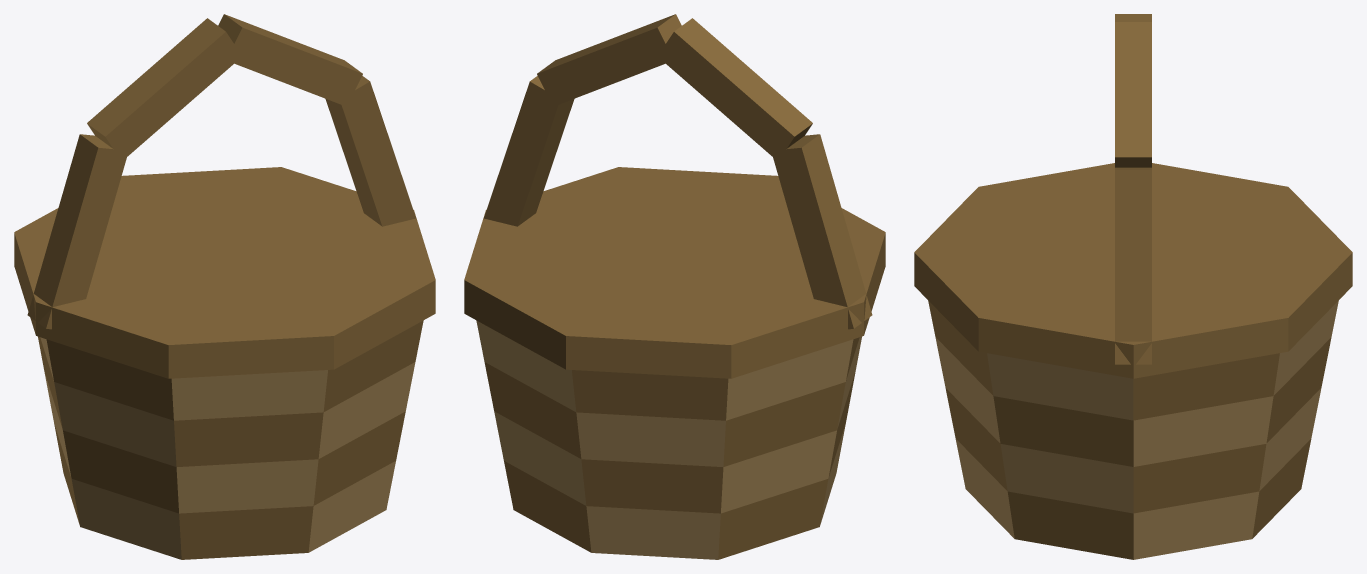
The model's file is fld_basket.glb.
The picture shows the model from 3 angles, left to right: view 1: azimuth 30°, elevation 25°; view 2: azimuth 150°, elevation 25°; view 3: azimuth 270°, elevation 25°; orthographic projection.
Parts seen in each view (by area): view 1: fld_basket; view 2: fld_basket; view 3: fld_basket.
Part boxes in pixels (left/top/right/bottom): fld_basket: left=14, top=14, right=435, bottom=559; fld_basket: left=464, top=14, right=885, bottom=559; fld_basket: left=914, top=14, right=1352, bottom=559.
Bounding box in the file's own units: 0.094 × 0.1114 × 0.094.
